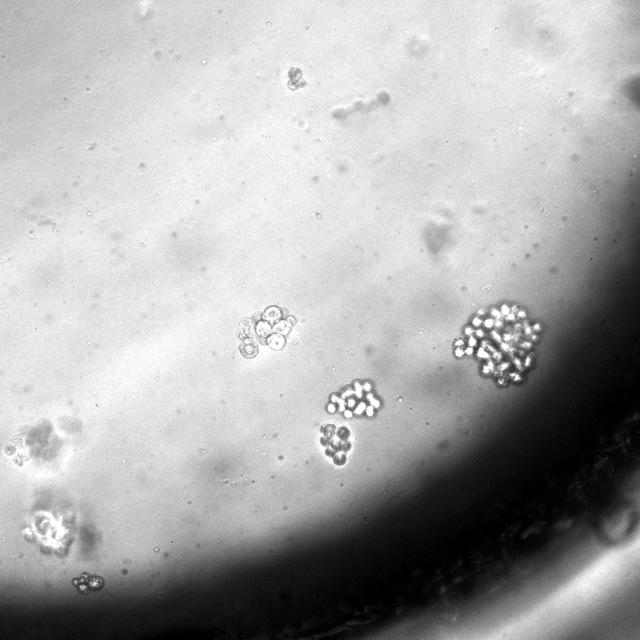organoid: (452, 303, 541, 386), (236, 305, 297, 359), (4, 420, 62, 465), (23, 508, 75, 555), (326, 379, 382, 418), (320, 423, 352, 465), (71, 571, 104, 594), (287, 68, 306, 90)
